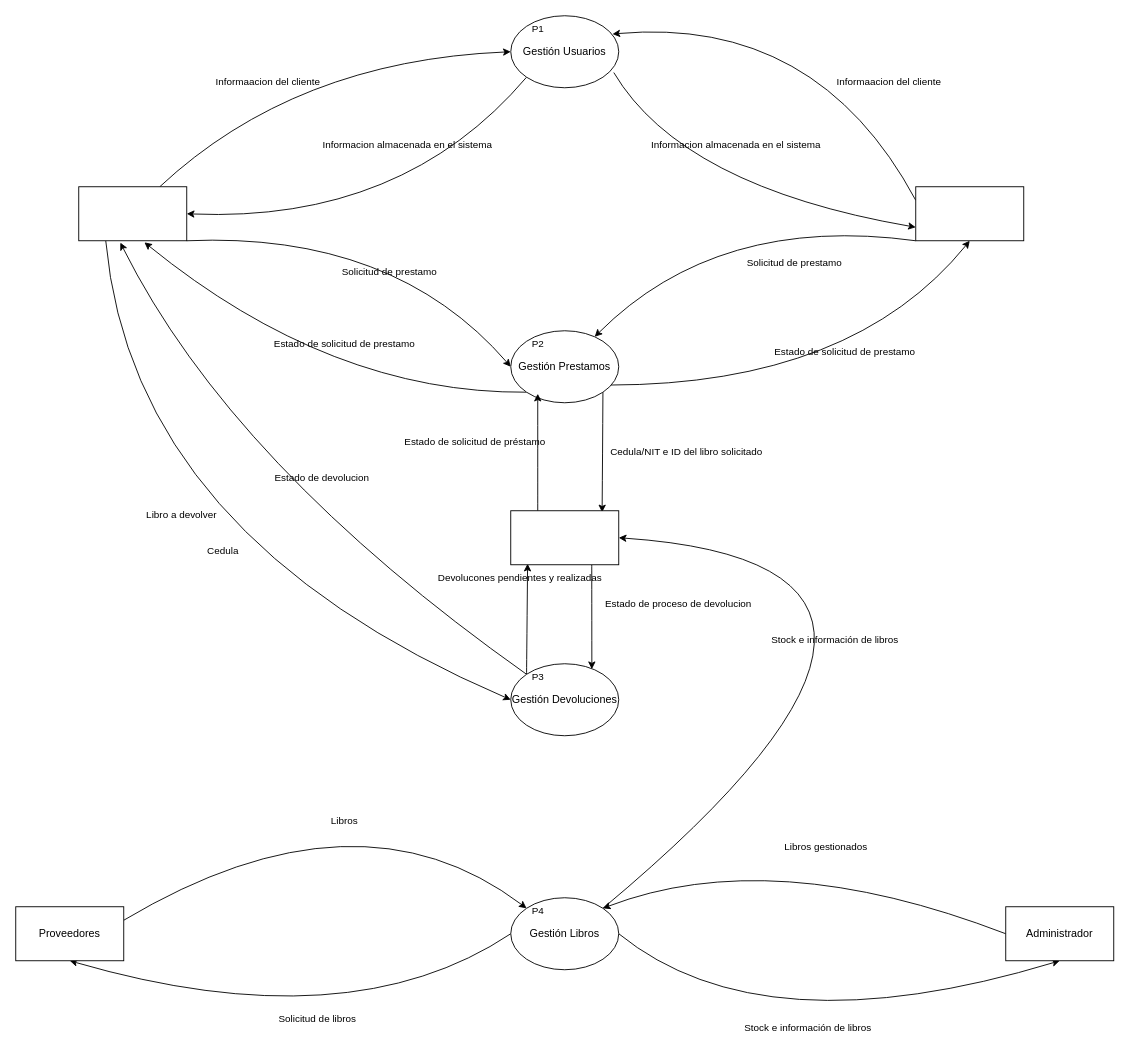
This 1130x1058 diagram has some shape labels left out. The centre of each missing label's shape, as x and y in pixels:
"Bibliotecario" belongs at point 564,537.
"Cliente" belongs at point 132,213.
"Instituciones educativas" belongs at point 969,213.
